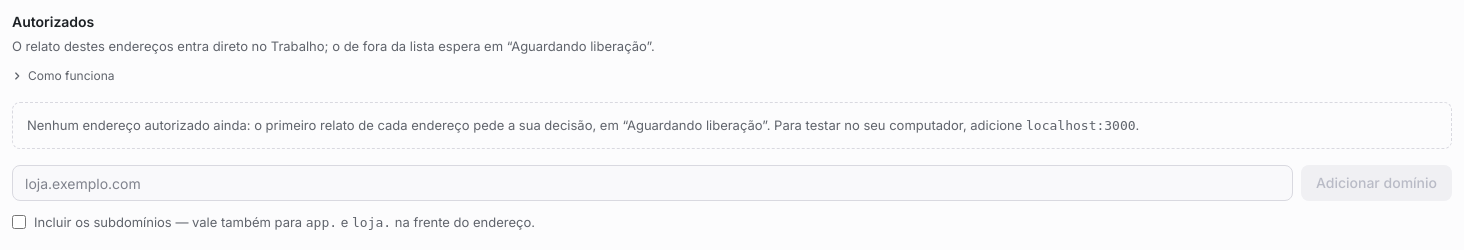
Test: AllowedOriginsSection › mostra na lista o domínio normalizado pela API, e não o que foi digitado
Type "HTTPS://Loja.com/" into the field named "Endereço do seu sistema" at (652, 183), box [12,165,1293,201]
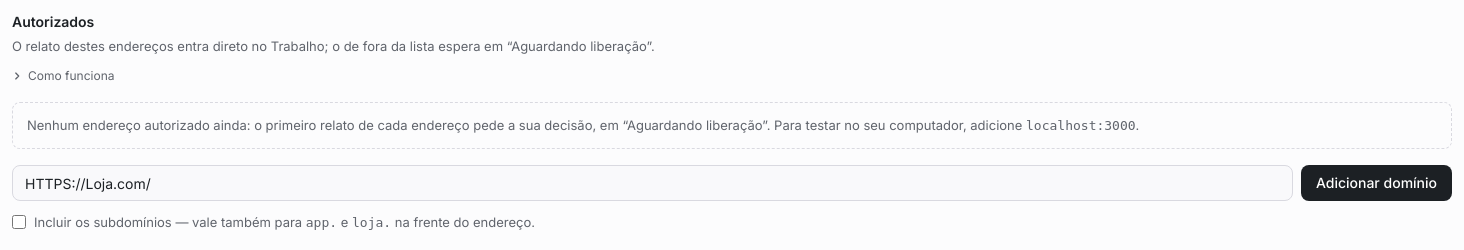
Click the button "Adicionar domínio" at (1376, 183), box [1301,165,1452,201]
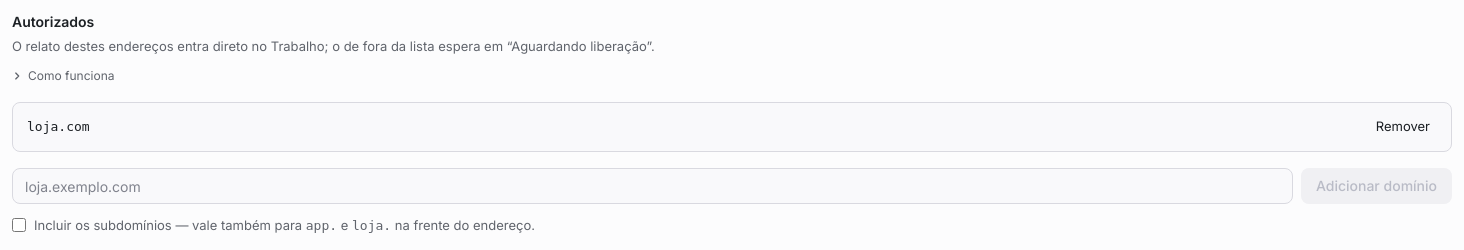
Expected: the text "HTTPS://Loja.com/" is not shown
Now the text "loja.com" is shown, box [27,119,90,134]
